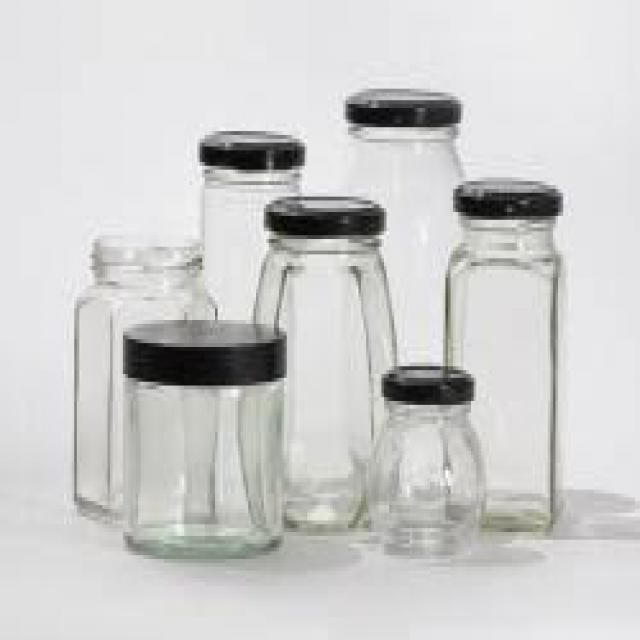non-organic waste: (117, 314, 290, 565), (362, 364, 488, 554)
